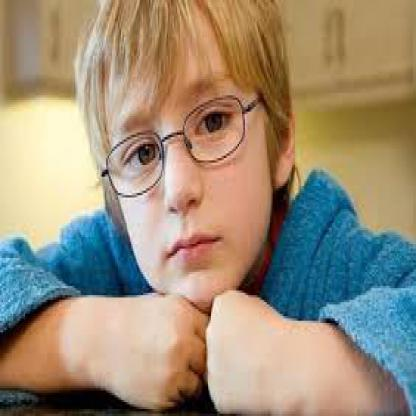glasses: (102, 95, 252, 203)
